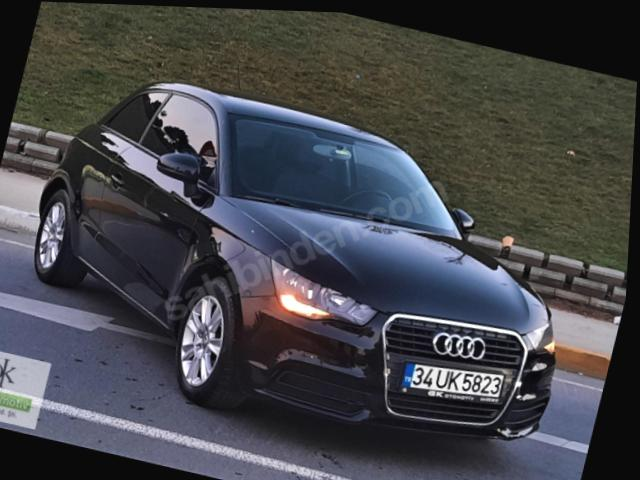plaka: (399, 363, 504, 397)
